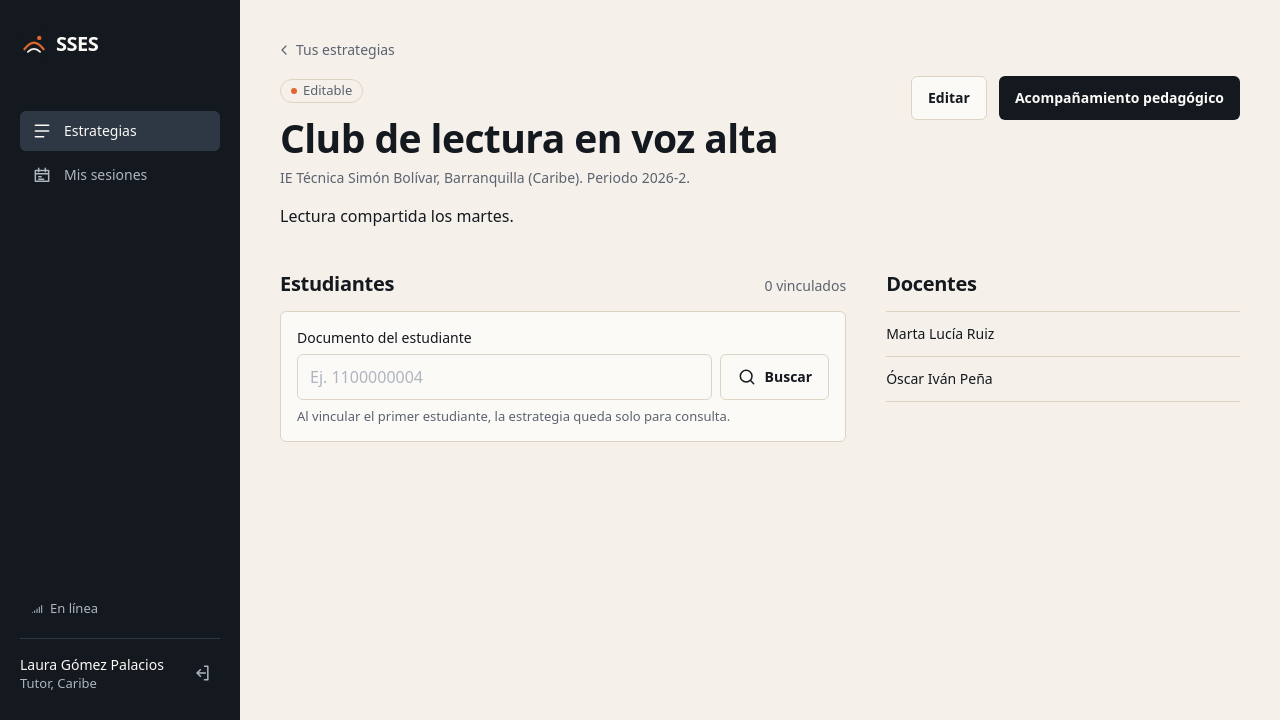
Detalle de la estrategia › flujo alterno: el documento no está en la base precargada
In the field labelled "Documento del estudiante": (504, 377) [297,354,712,400], type "999"
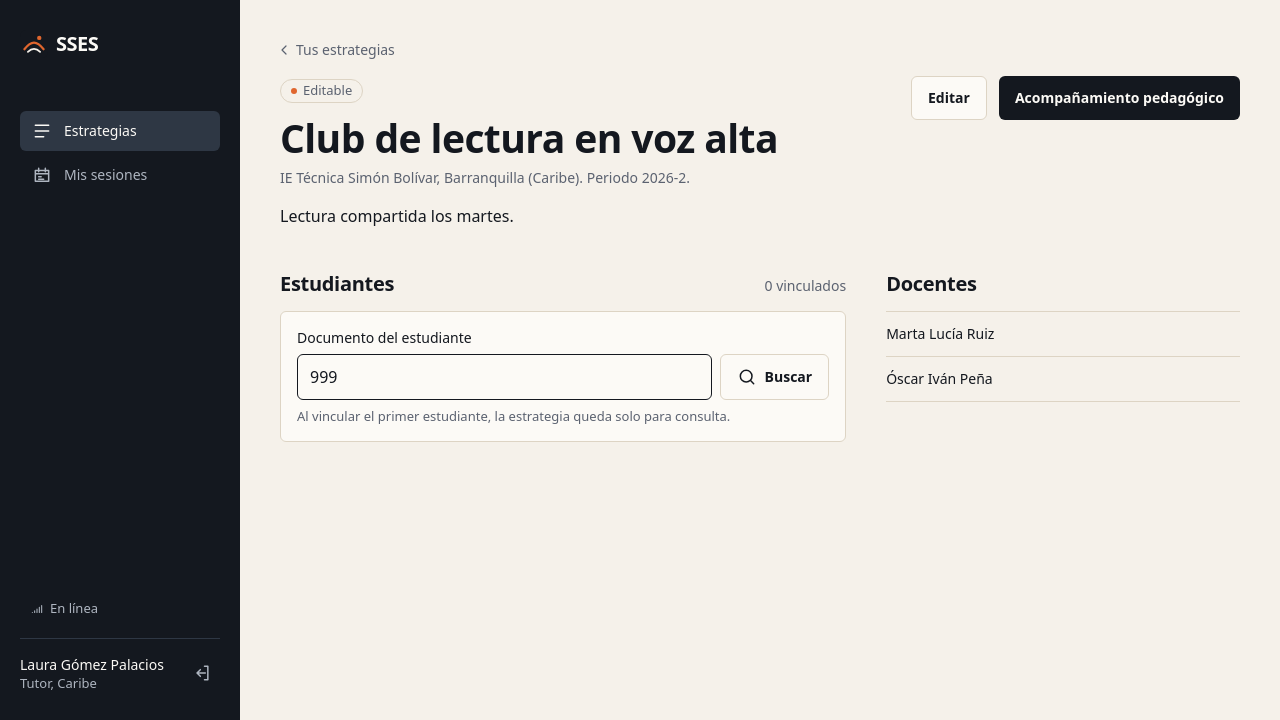
Click the button "Buscar": (774, 377) [720,354,829,400]
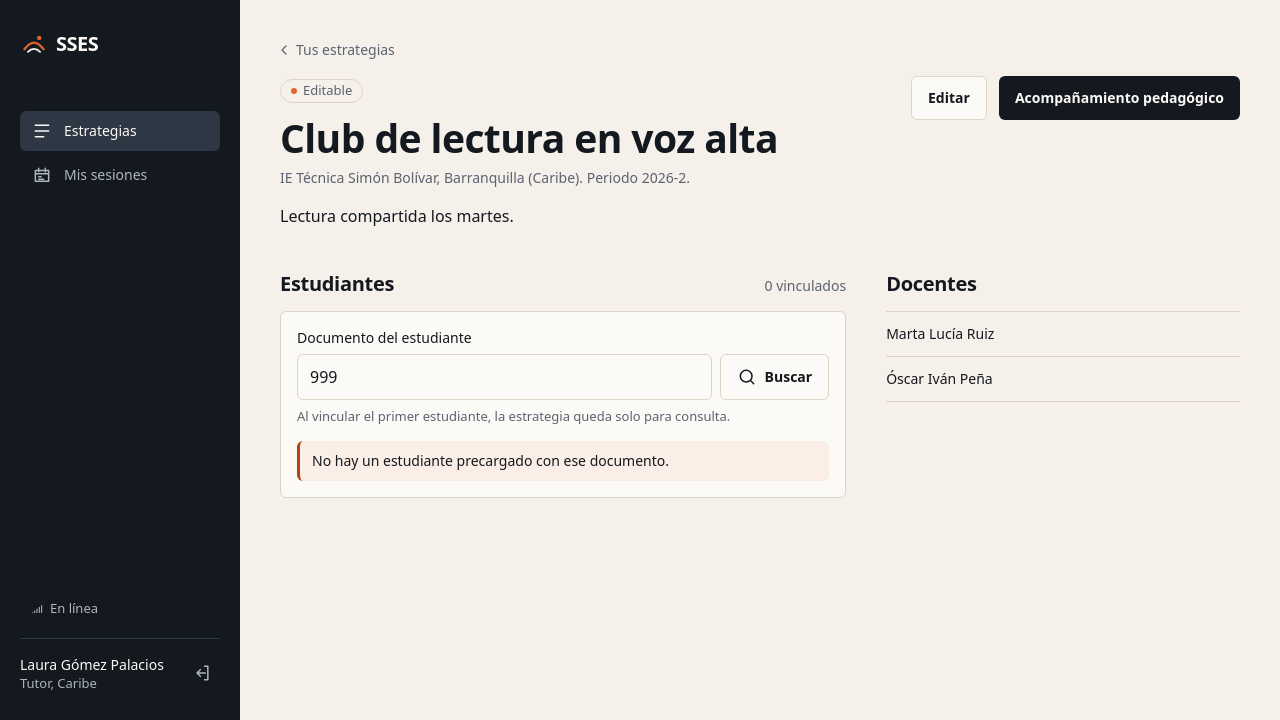
Now the text "No hay un estudiante precargado con ese documento." is shown, box [297,441,829,481]
